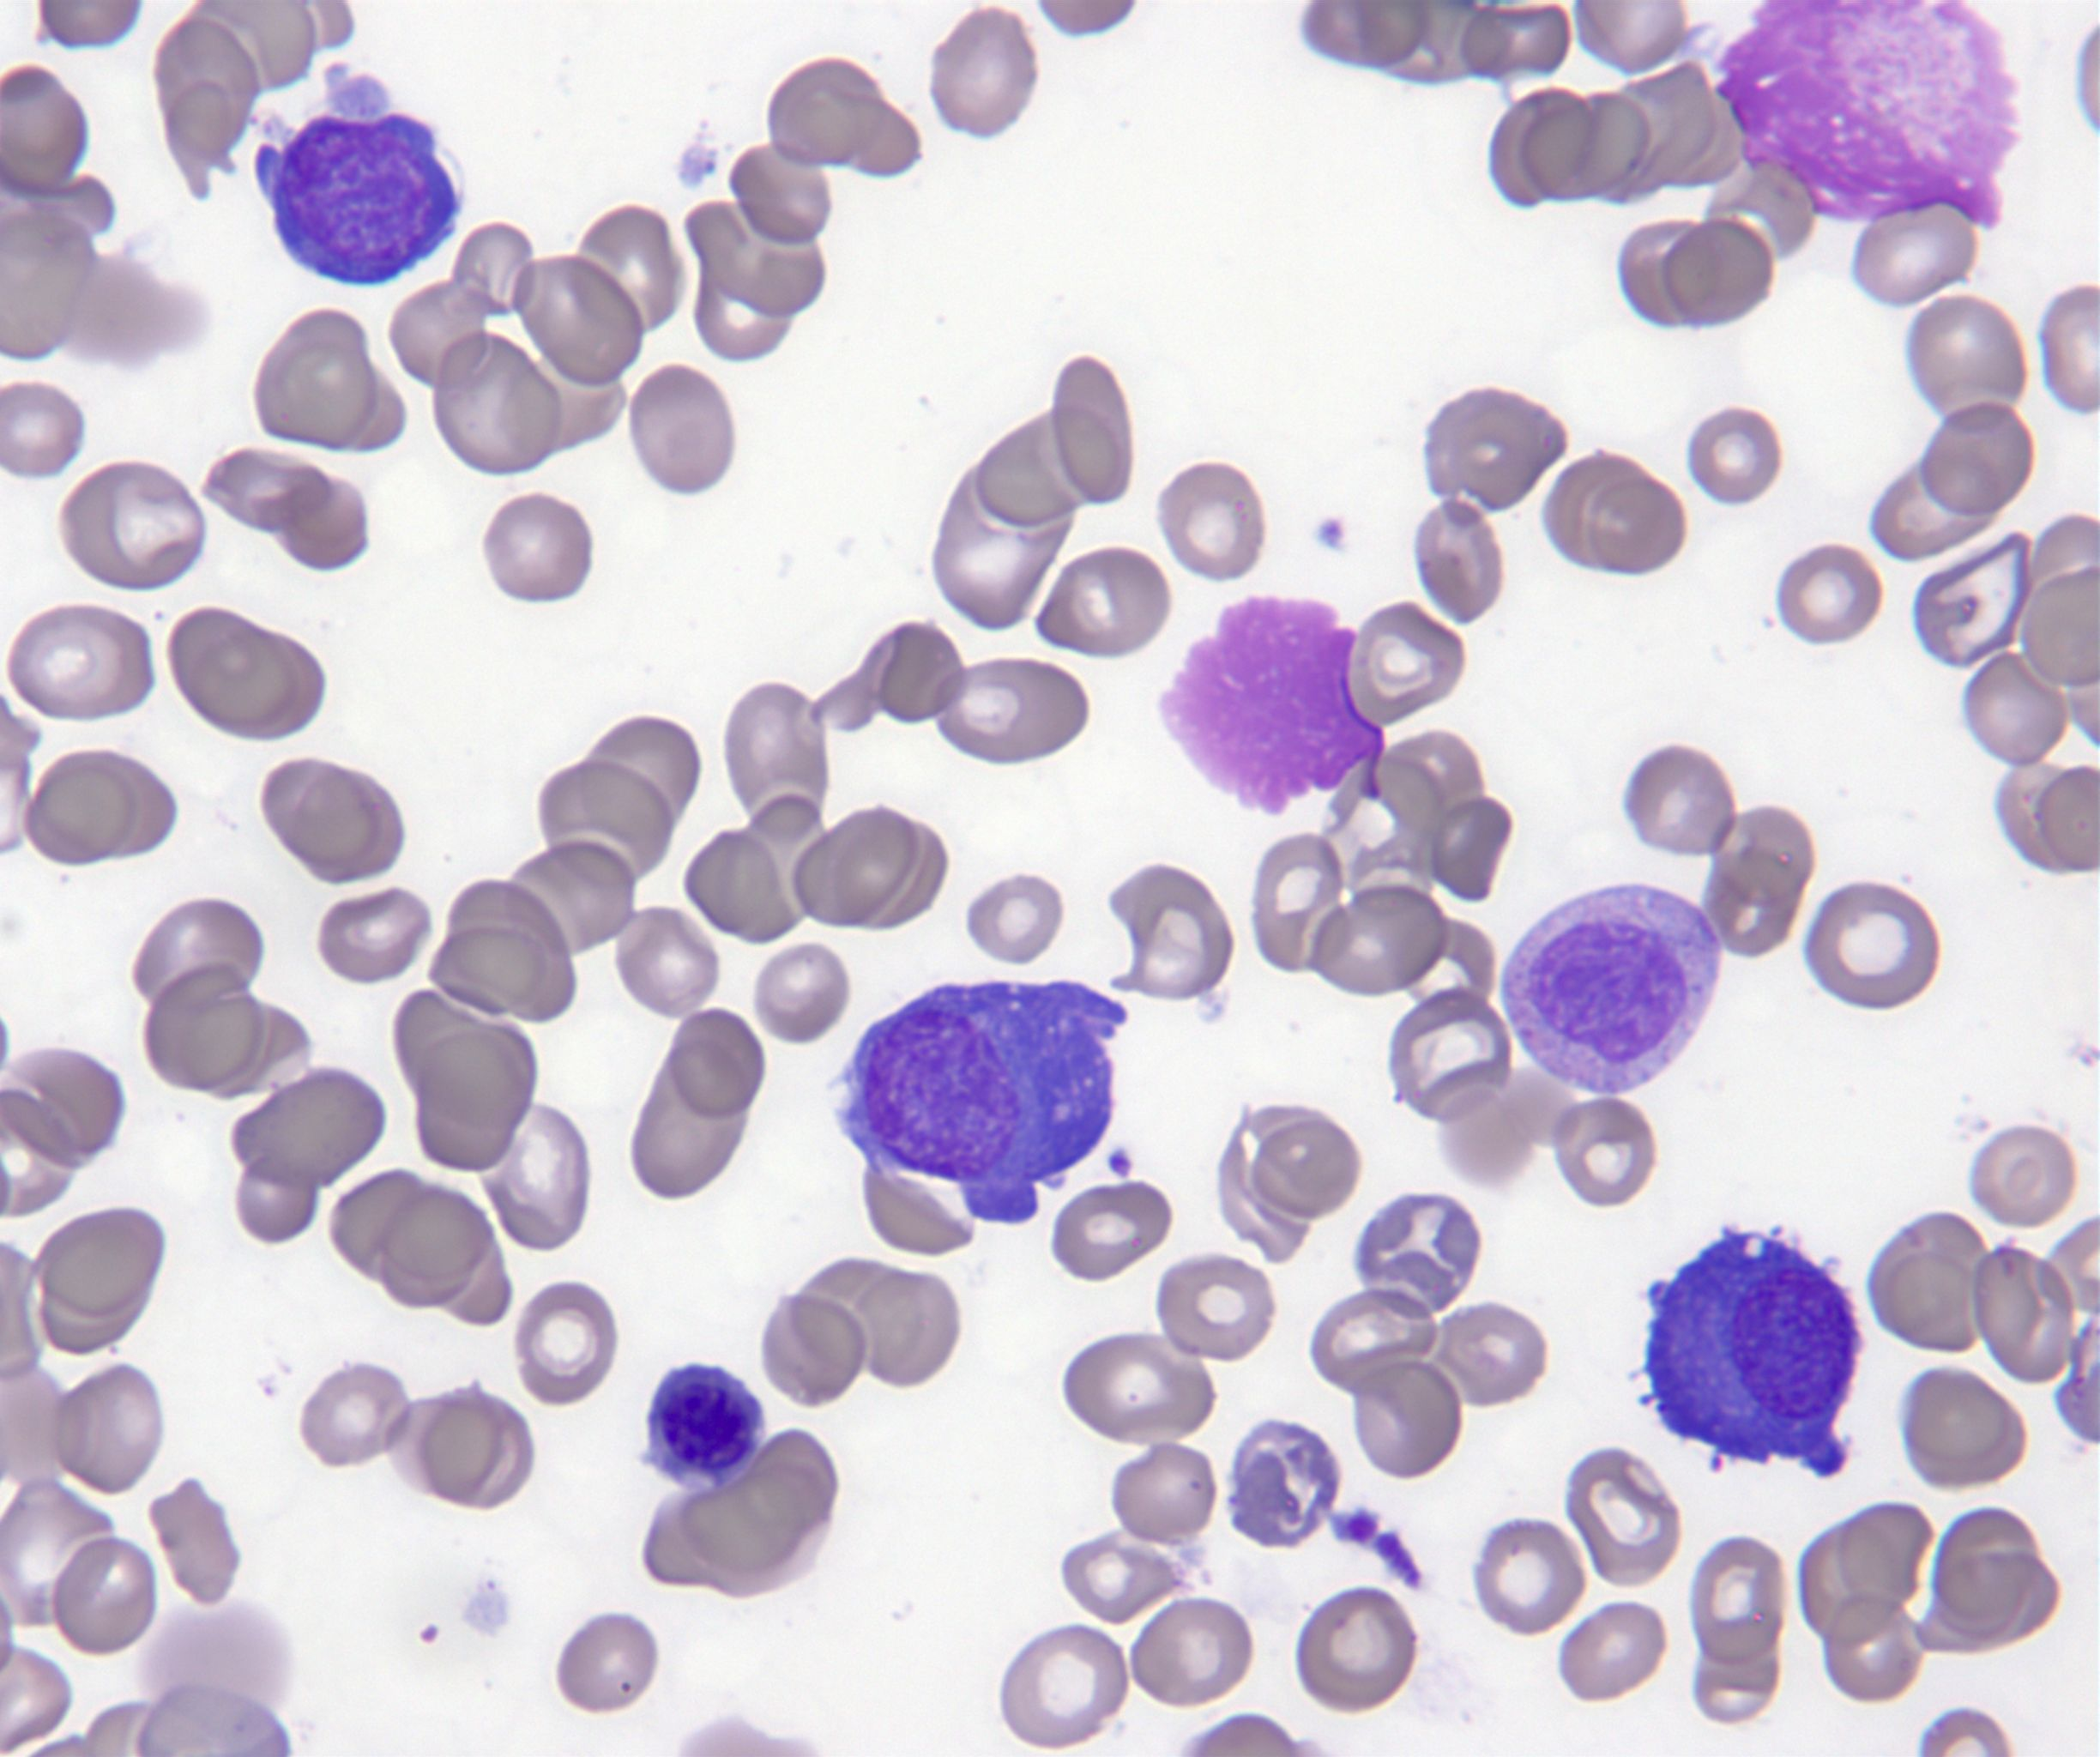22: (255, 59, 464, 284)
23: (644, 1364, 767, 1485)
3: (1503, 883, 1723, 1096)
52: (830, 979, 1125, 1225), (1648, 1227, 1865, 1476)
x: (1716, 0, 2020, 230), (1155, 593, 1388, 815)
